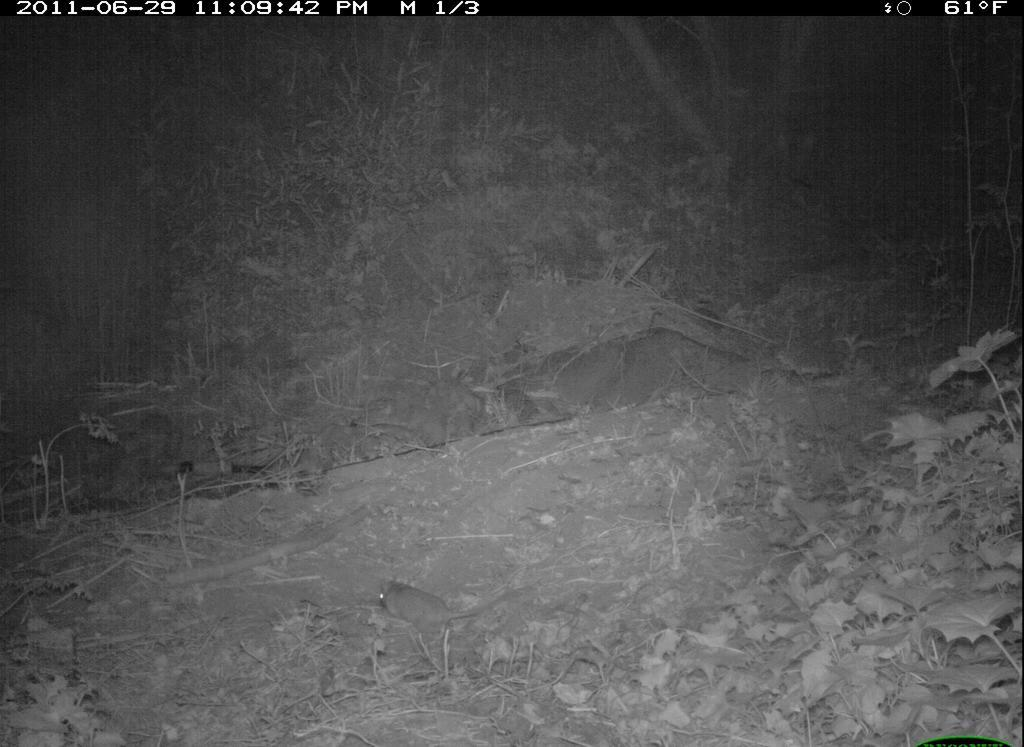rodent: (373, 565, 516, 662)
